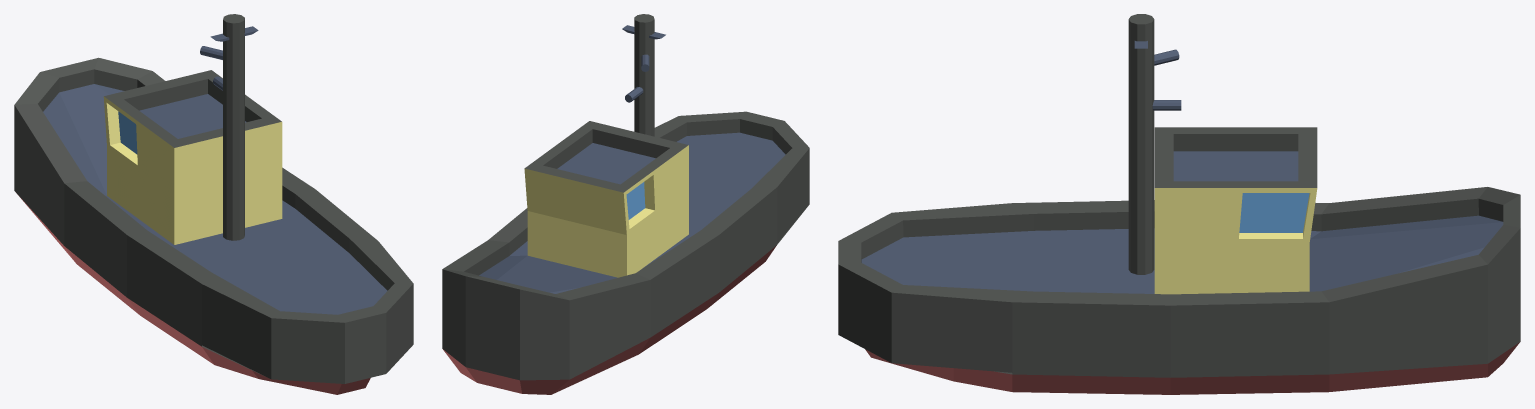
Rendered from ship1.glb.
3 renders of one model, left to right at view 1: azimuth 30°, elevation 25°; view 2: azimuth 150°, elevation 25°; view 3: azimuth 270°, elevation 25°, orthographic. The views are drawn at different scales.
Visible parts, largest first — view 1: Cube; view 2: Cube; view 3: Cube.
Boxes of the visible parts, <box> form: Cube: <box>14,14,413,394</box>; Cube: <box>442,14,809,394</box>; Cube: <box>838,14,1520,394</box>.
Size of the model in its own units: 2.13 by 3.11 by 5.82.
